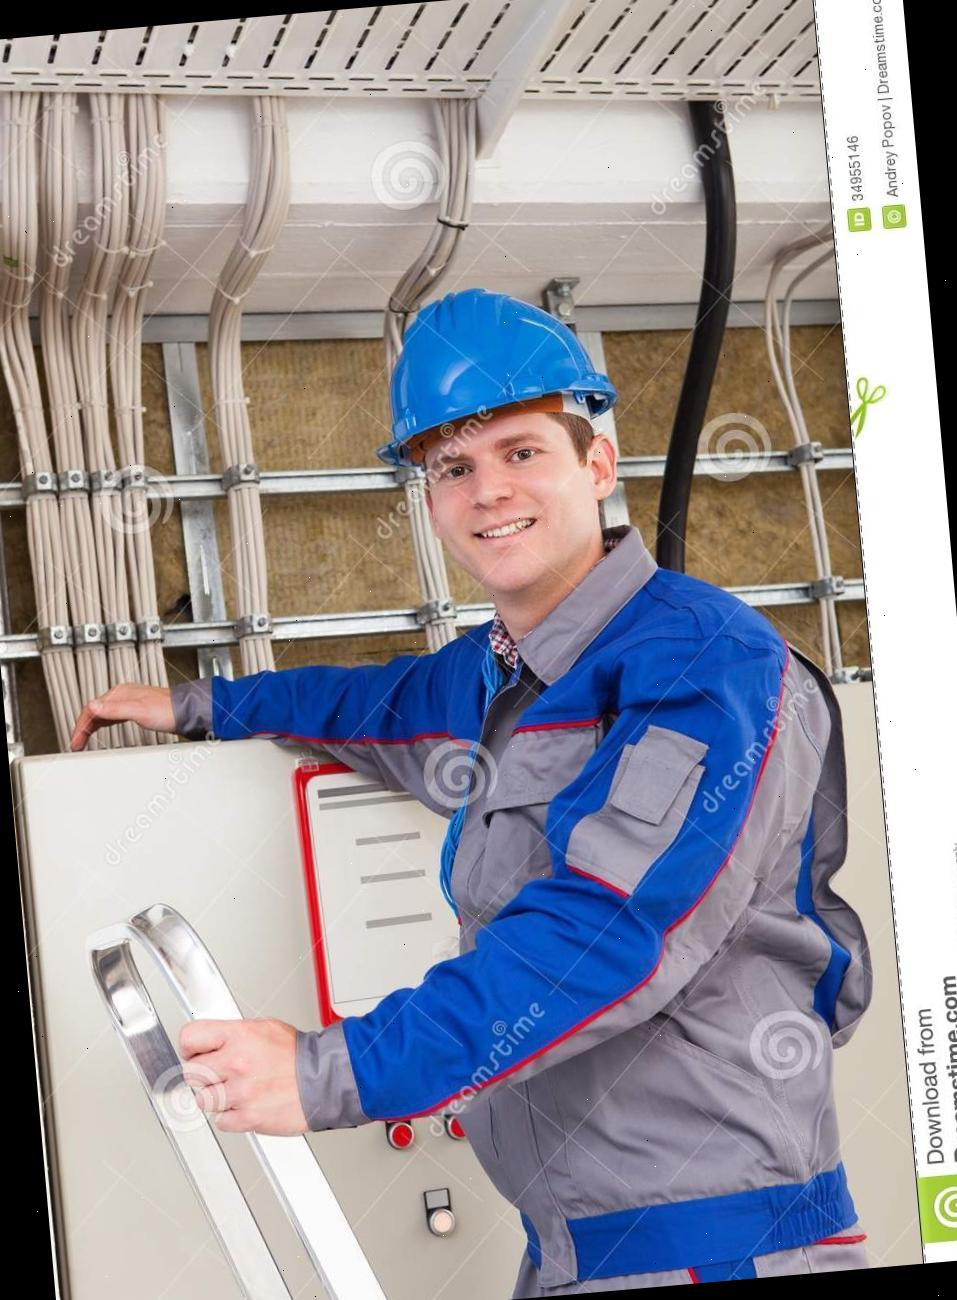helmet: (363, 276, 623, 457)
wear: (412, 588, 885, 1219)
